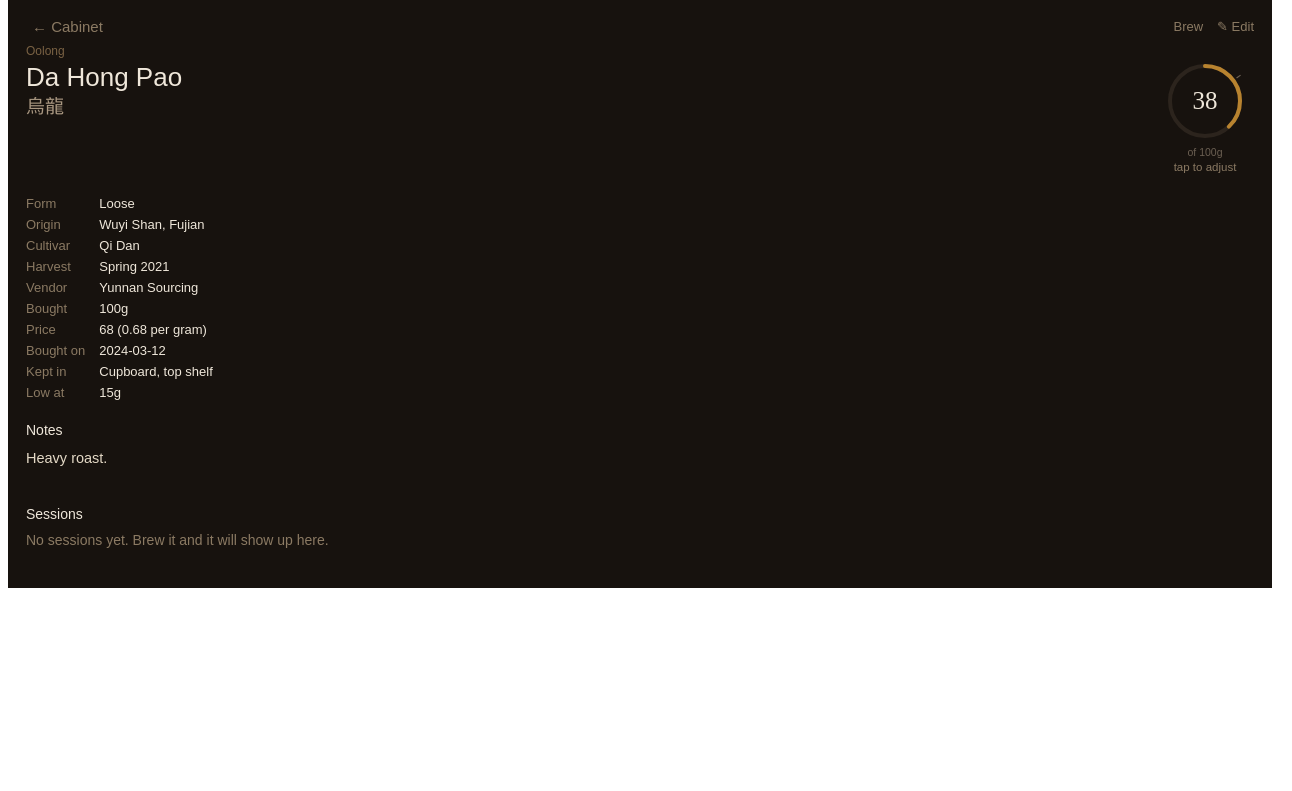
TeaDetailPage › enables Save changes once something changed and the required fields are still present
Click the button with test id "tea-edit": [1236, 26] box top-left (1217, 15), bottom-right (1254, 38)
(page scrolled)
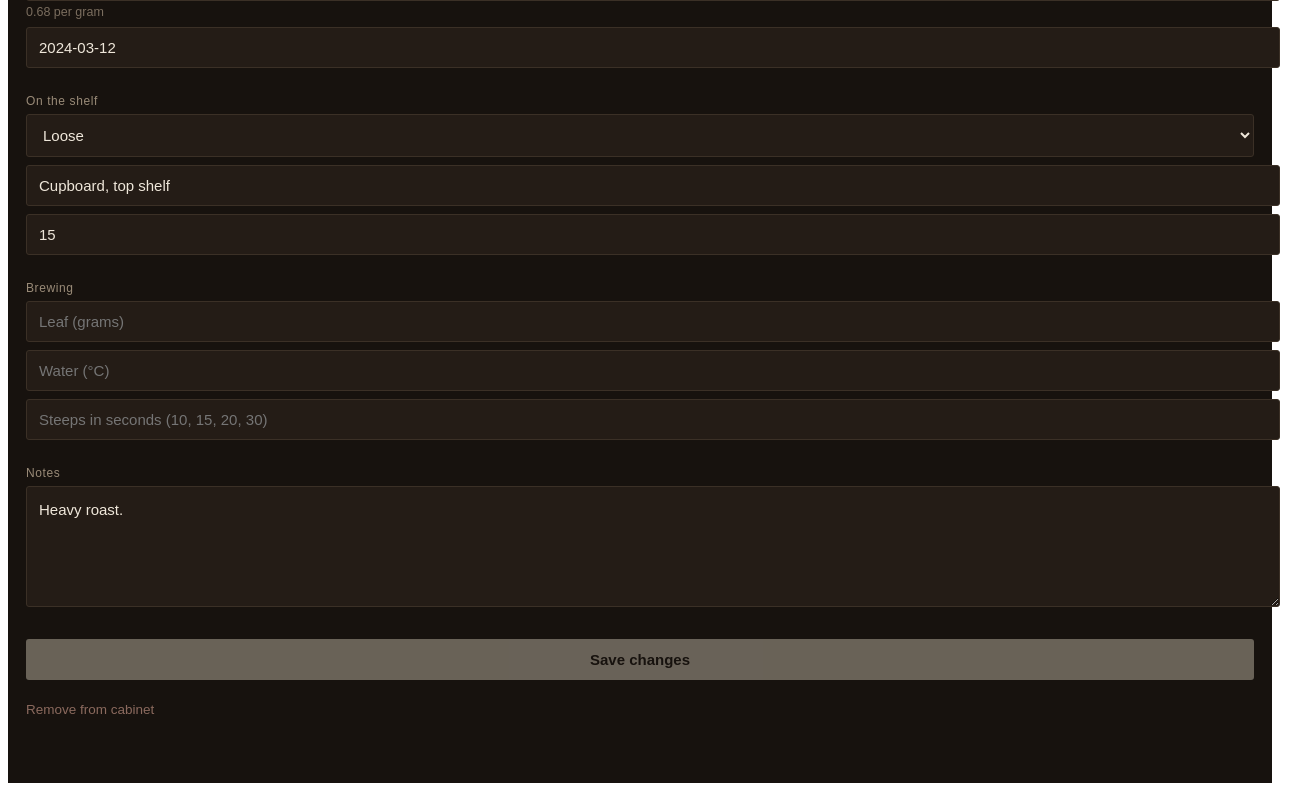
Expected: the button with test id "tea-save" is disabled, top-left (26, 639), bottom-right (1254, 680)
Replace the text in the text box with test id "field-notes" with "Updated notes.": [653, 547] box top-left (26, 486), bottom-right (1280, 607)
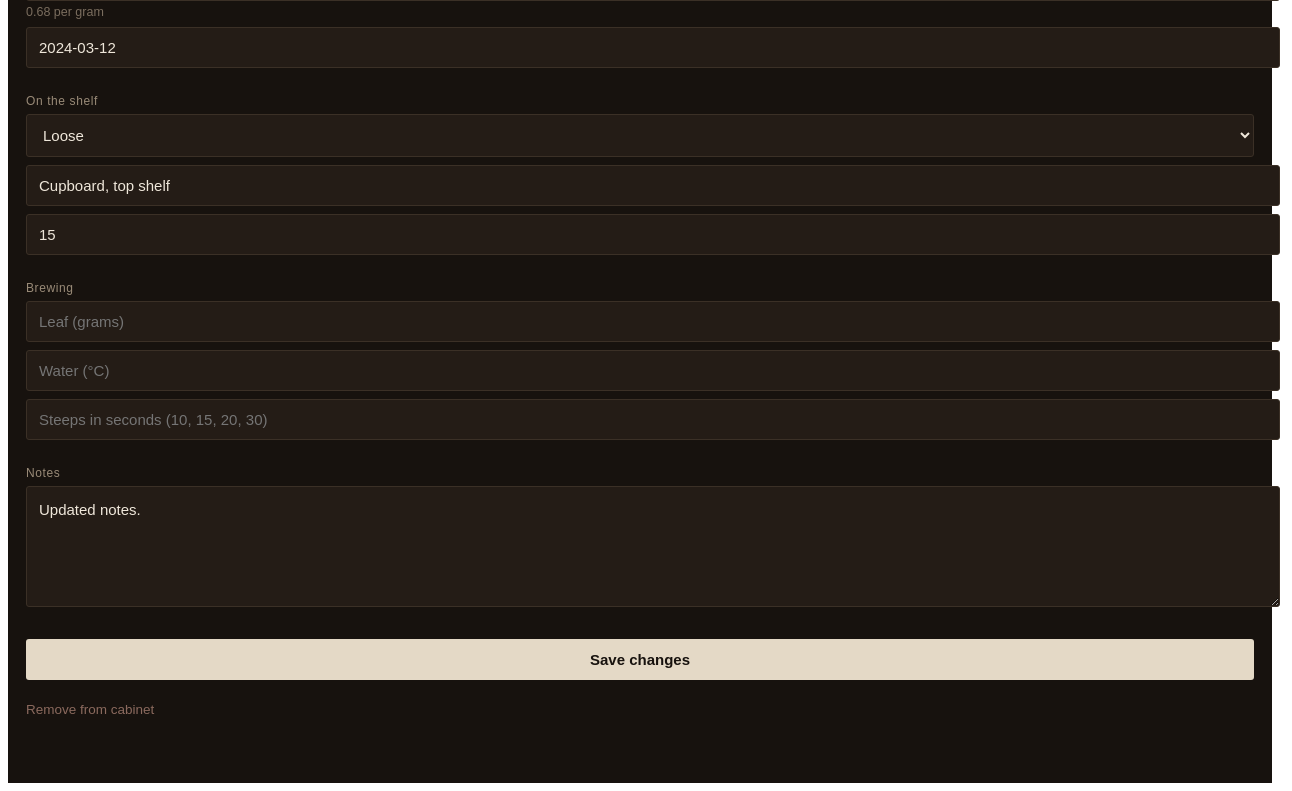
Expected: the button with test id "tea-save" is enabled, top-left (26, 639), bottom-right (1254, 680)
